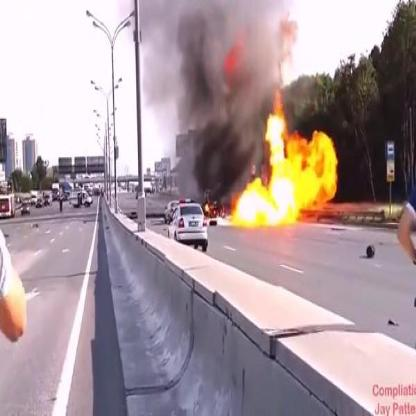fire: (228, 104, 341, 228), (224, 38, 241, 80), (202, 200, 224, 221)
